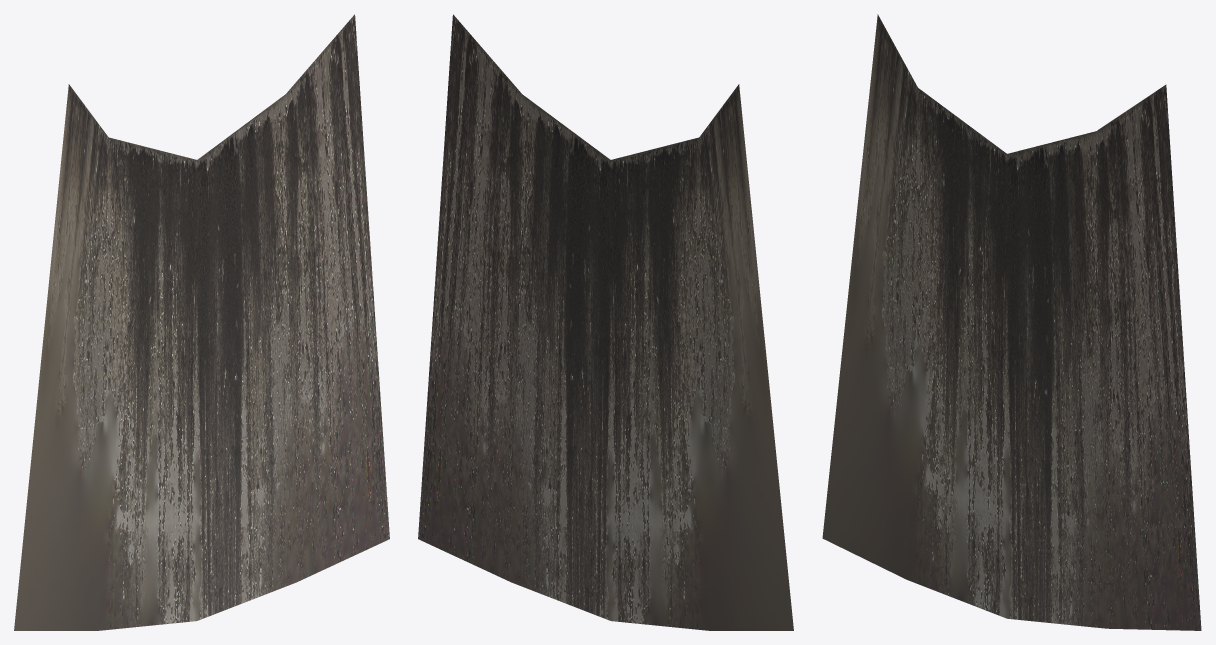
File: Decal003.FBX
The picture shows the model from 3 angles, left to right: view 1: azimuth 30°, elevation 25°; view 2: azimuth 150°, elevation 25°; view 3: azimuth 330°, elevation 25°; orthographic projection.
Visible parts, largest first — view 1: Decal003; view 2: Decal003; view 3: Decal003.
Boxes of the visible parts, box(x1,y1,x2,y2) form: Decal003: box(14, 14, 389, 630); Decal003: box(418, 14, 793, 630); Decal003: box(822, 14, 1201, 630).
Size of the model in its own units: 2.01 by 2.9 by 3.83e-07.
1 material, 1 textured.
